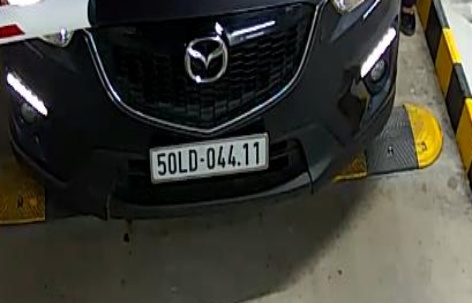plate: (148, 132, 276, 183)
